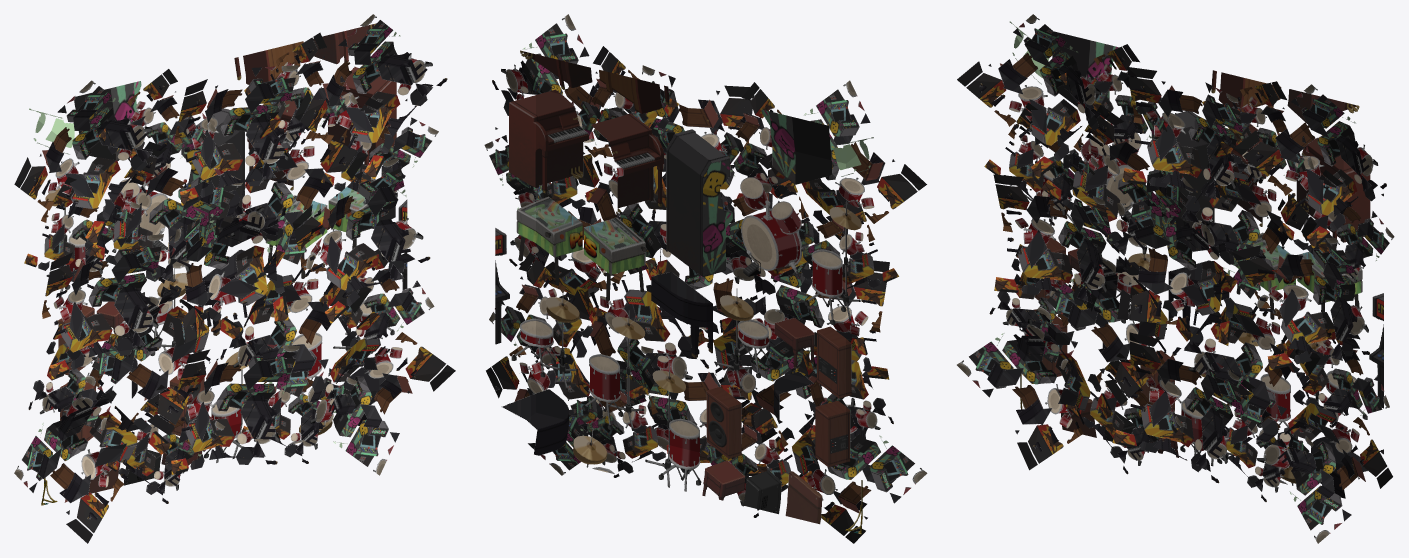
The picture shows the model from 3 angles, left to right: view 1: azimuth 30°, elevation 25°; view 2: azimuth 150°, elevation 25°; view 3: azimuth 330°, elevation 25°; orthographic projection.
Bounding box in the file's own units: 1.17 × 1.17 × 0.0909.
